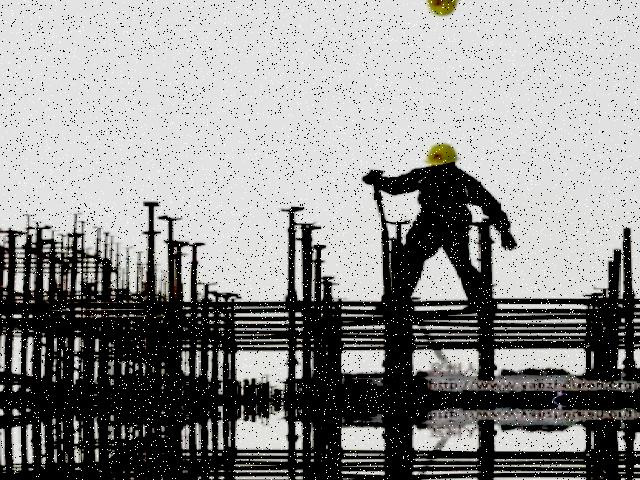Helmet: (422, 138, 459, 172)
